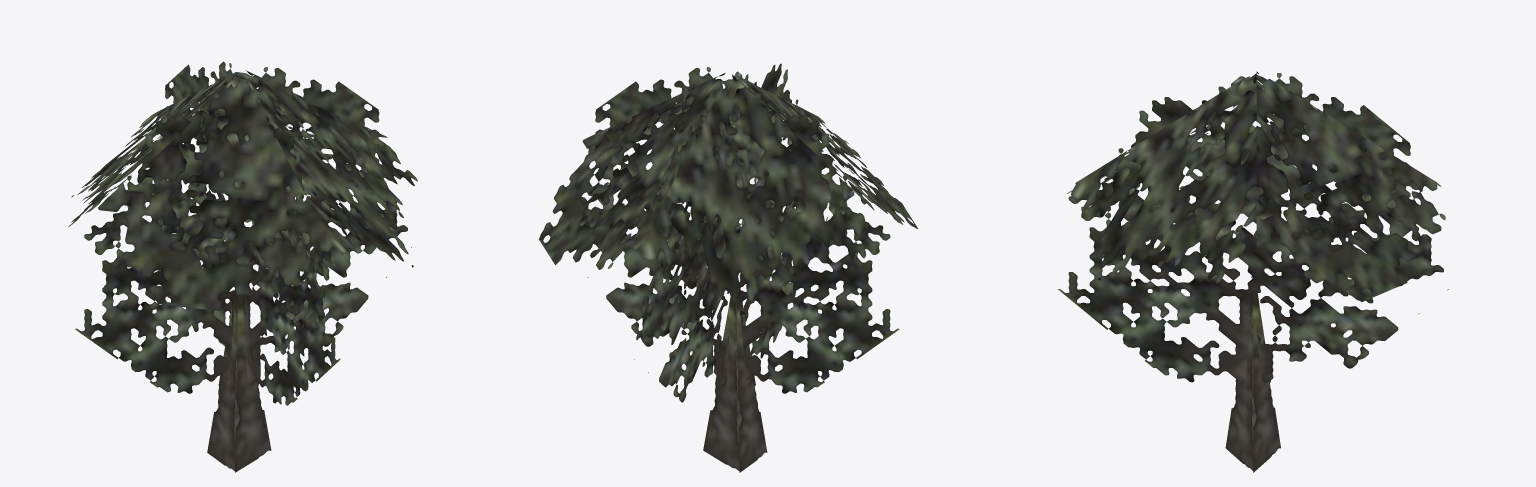
3 views of the same model, side by side, from view 1: azimuth 30°, elevation 25°; view 2: azimuth 150°, elevation 25°; view 3: azimuth 270°, elevation 25° (orthographic).
Visible parts, largest first — view 1: TC1_1; view 2: TC1_1; view 3: TC1_1.
Boxes of the visible parts, x1,y1,x2,y2 form: TC1_1: (68,61,417,472); TC1_1: (539,63,917,472); TC1_1: (1058,71,1448,472).
Bounding box in the file's own units: 25.92 × 24.01 × 26.05.
Materials: 1 (1 with a texture image).
